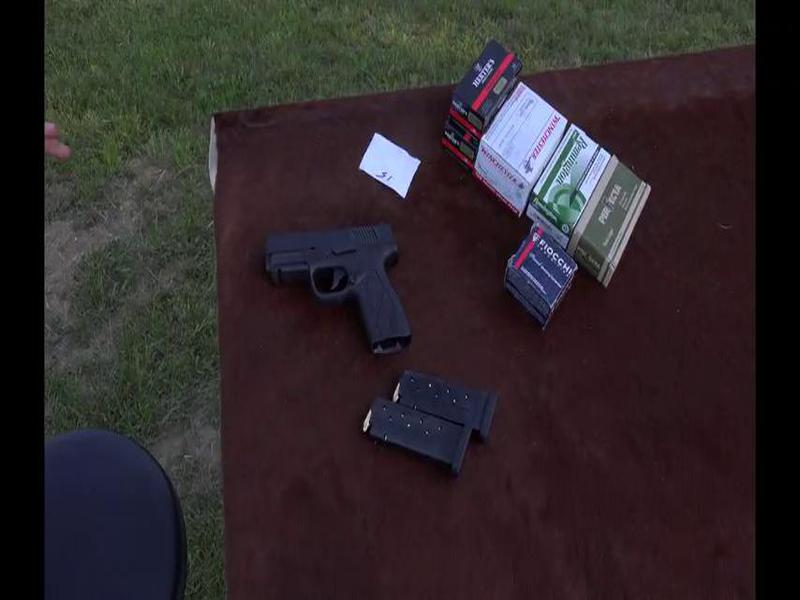Pistola: (272, 227, 417, 353)
